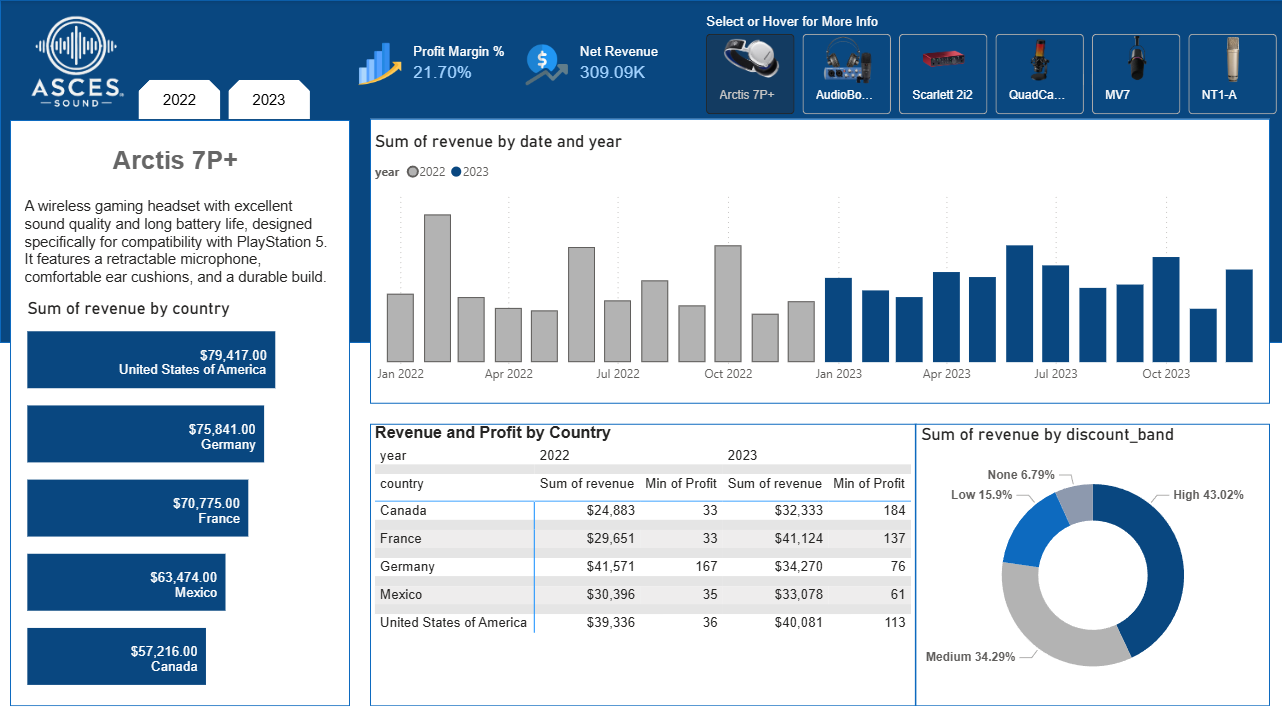

This screenshot's page, from the dashboard's own definition file:
{"tool":"powerbi","page":{"name":"Product Analytics Dashboard","canvas":[1280,720],"ordinal":0},"visuals":[{"type":"shape","box":[0,0,1280,341.2],"z":0},{"type":"shape","box":[10,119.4,338.4,583.4],"z":1000},{"type":"shape","box":[368.2,118.2,895.7,283.6],"z":2000},{"type":"shape","box":[368.2,421.7,895.7,281.1],"z":3000},{"type":"image","box":[16.2,0,110.7,118.2],"z":4000},{"type":"card","fields":{"Values":["Min(Query1.product)"]},"box":[10,119.4,329.6,79.6],"z":5000},{"type":"cardVisual","fields":{"Data":["Min(Query1.description)"]},"box":[17.4,187.8,322.2,171.7],"z":6000},{"type":"barChart","fields":{"Category":["Query1.country"],"Y":["Sum(Query1.revenue)"]},"box":[22.4,296.1,317.2,393.1],"z":7000},{"type":"columnChart","fields":{"Y":["Sum(Query1.revenue)"],"Series":["Query1.year"],"Category":["Query1.date"]},"box":[368.2,130.6,895.7,260],"z":8000},{"type":"donutChart","fields":{"Y":["Sum(Query1.revenue)"],"Category":["Query1.discount_band"]},"box":[911.8,421.7,352,281.1],"z":9000},{"type":"pivotTable","title":"Revenue and Profit by Country","fields":{"Columns":["Query1.year"],"Values":["Sum(Query1.revenue)","Min(Query1.Profit)"],"Rows":["Query1.country"]},"box":[368.2,421.7,543.6,281.1],"z":10000},{"type":"shape","box":[761.3,421.7,299.8,281.1],"z":11000},{"type":"advancedSlicerVisual","title":"Select or Hover for More Info","fields":{"Values":["Query1.image_url"]},"box":[697.9,13.7,582.2,105.7],"z":12000},{"type":"advancedSlicerVisual","fields":{"Values":["Calendar.Date.Variation.Date Hierarchy.Year"]},"box":[133.1,74.6,181.6,49.8],"z":13000},{"type":"cardVisual","fields":{"Data":["Query1.Profit Margin %","Query1.Net Revenue"]},"box":[339.6,11.2,358.3,105.7],"z":14000}]}

Visuals, with their boxes in screenshot pixels (x1, y1, x2, y2), scaled from the page's 1280x720 canvas onto the 1282x717 screenshot:
shape: box(0, 0, 1281, 340)
shape: box(10, 119, 349, 700)
shape: box(369, 118, 1266, 400)
shape: box(369, 420, 1266, 700)
image: box(16, 0, 127, 118)
card - Min(Query1.product): box(10, 119, 340, 198)
cardVisual - Min(Query1.description): box(17, 187, 340, 358)
barChart - Query1.country x Sum(Query1.revenue): box(22, 295, 340, 686)
columnChart - Sum(Query1.revenue) x Query1.year: box(369, 130, 1266, 389)
donutChart - Sum(Query1.revenue) x Query1.discount_band: box(913, 420, 1266, 700)
"Revenue and Profit by Country" pivotTable: box(369, 420, 913, 700)
shape: box(762, 420, 1063, 700)
"Select or Hover for More Info" advancedSlicerVisual: box(699, 14, 1281, 119)
advancedSlicerVisual - Calendar.Date.Variation.Date Hierarchy.Year: box(133, 74, 315, 124)
cardVisual - Query1.Profit Margin % x Query1.Net Revenue: box(340, 11, 699, 116)
